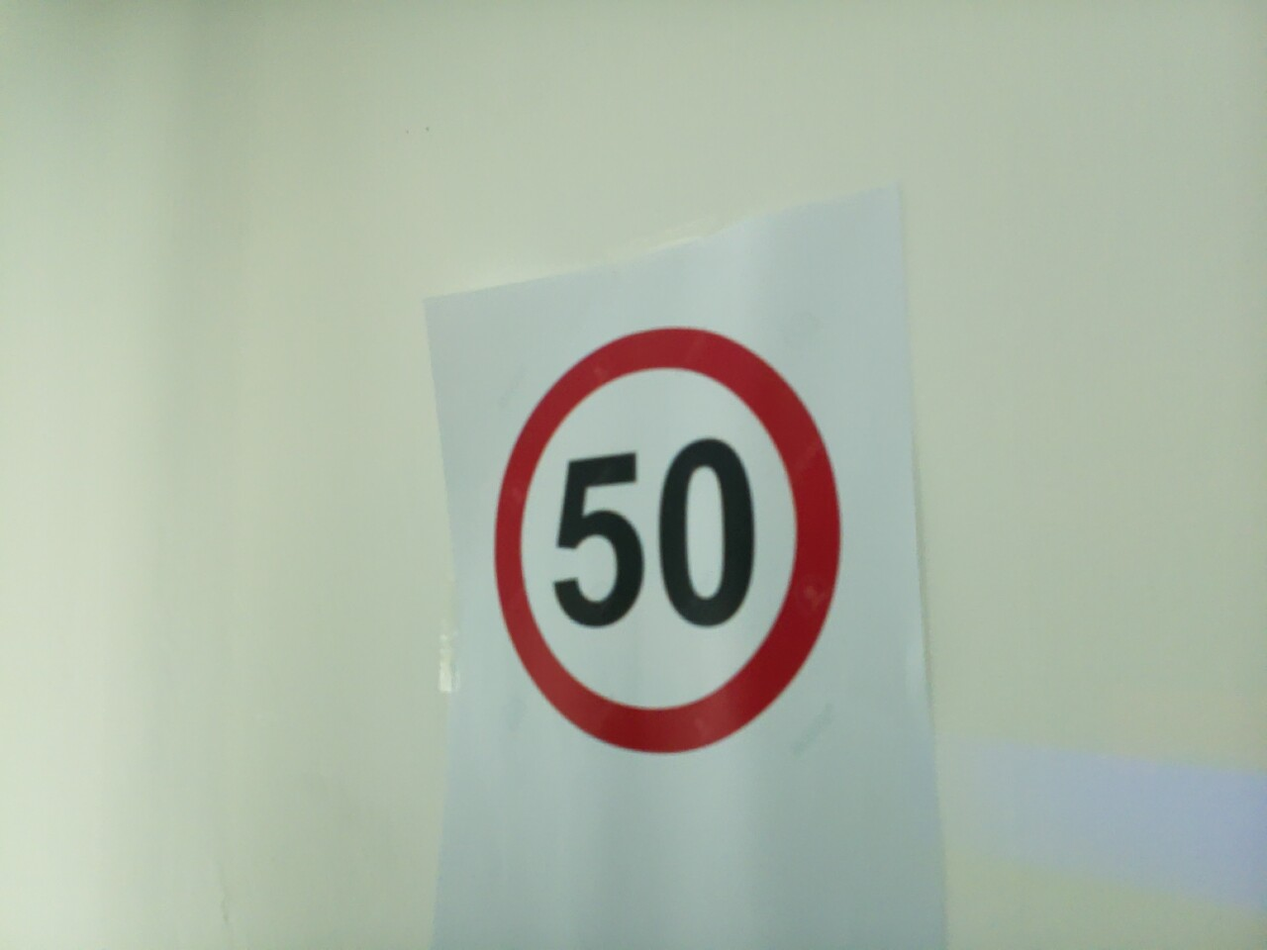speed_50: (483, 316, 851, 765)
